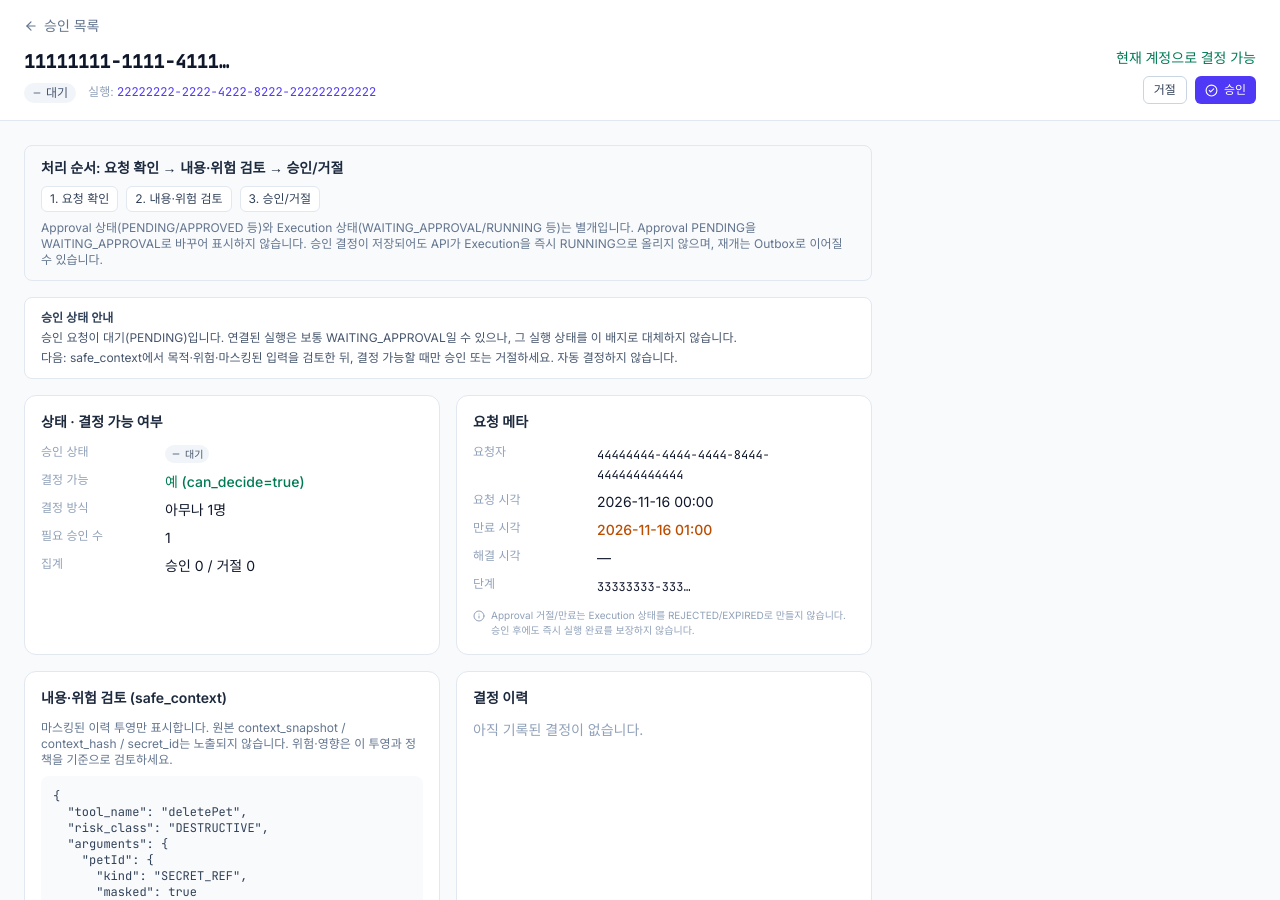
Test case: ApprovalDetail decide (phase 2) › rejects with comment and does not claim success on 409 conflict
The width and height of the screenshot is (1280, 900).
Expected: the text "현재 계정으로 결정 가능" is shown, x1=1116 y1=48 x2=1256 y2=68
Click the button "거절" at (1165, 90), box x1=1143 y1=76 x2=1187 y2=104
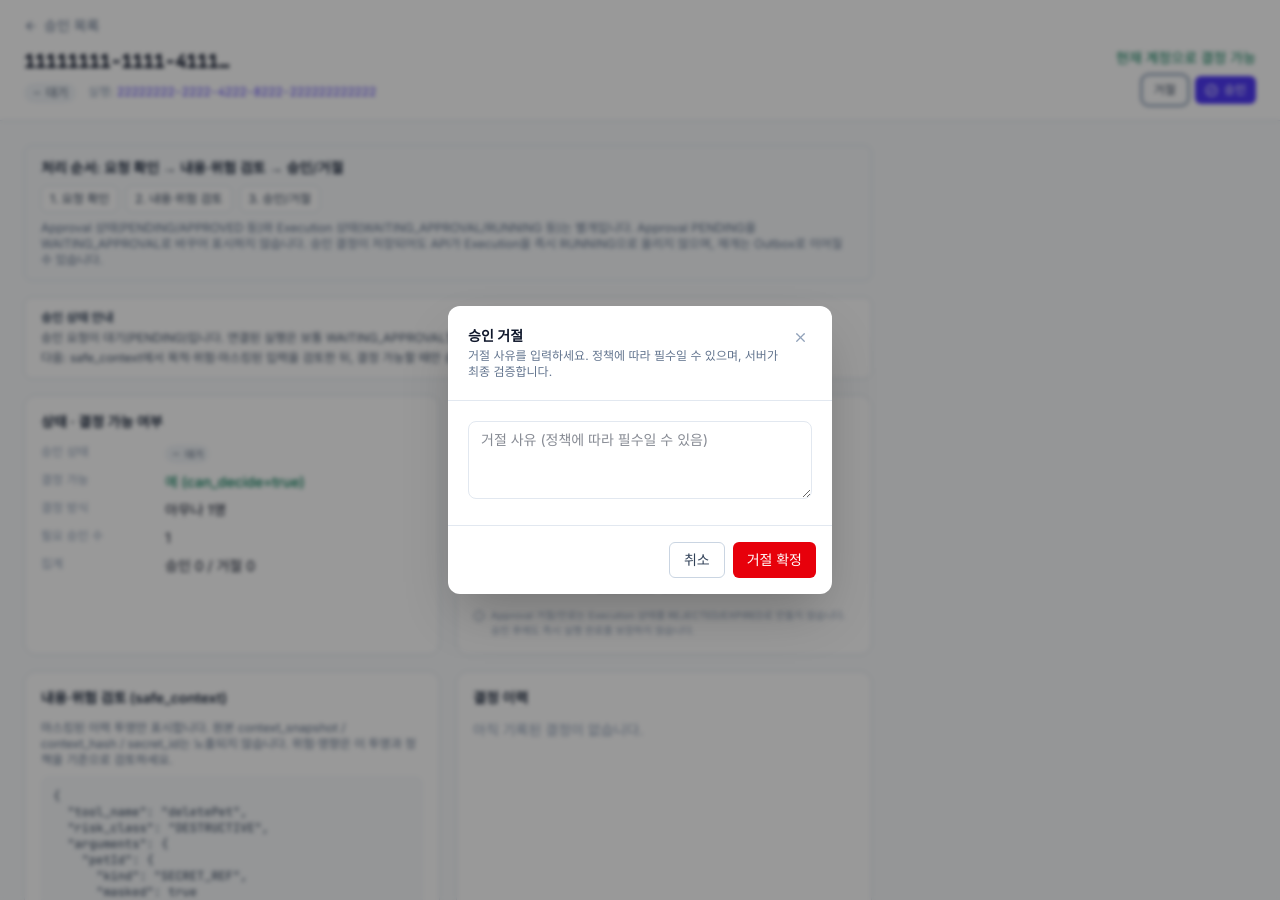
Type "정책상 거절" into the text box with placeholder "거절 사유 (정책에 따라 필수일 수 있음)" at (640, 460), box x1=468 y1=421 x2=812 y2=499
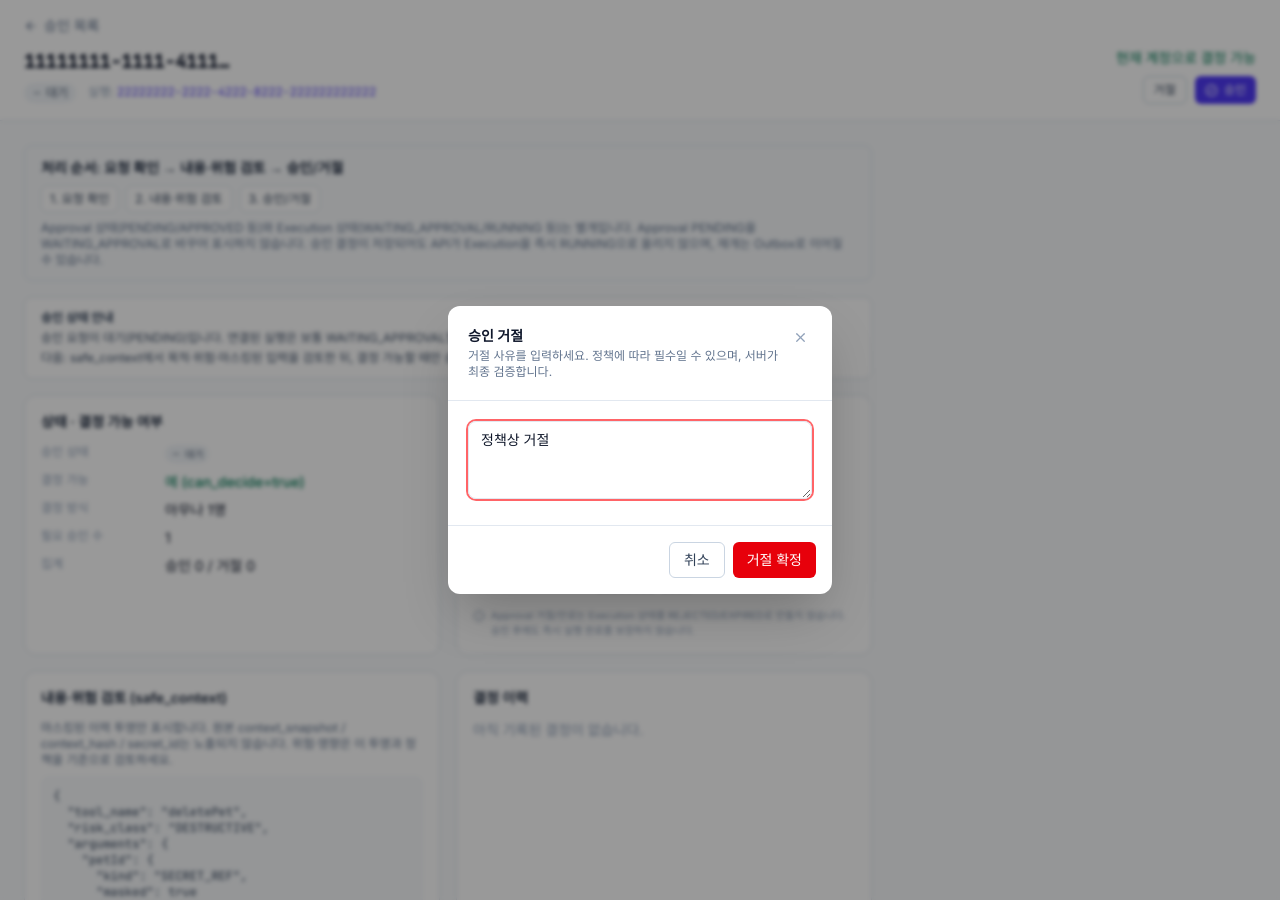
Click the button "거절 확정" at (774, 560), box x1=733 y1=542 x2=816 y2=578
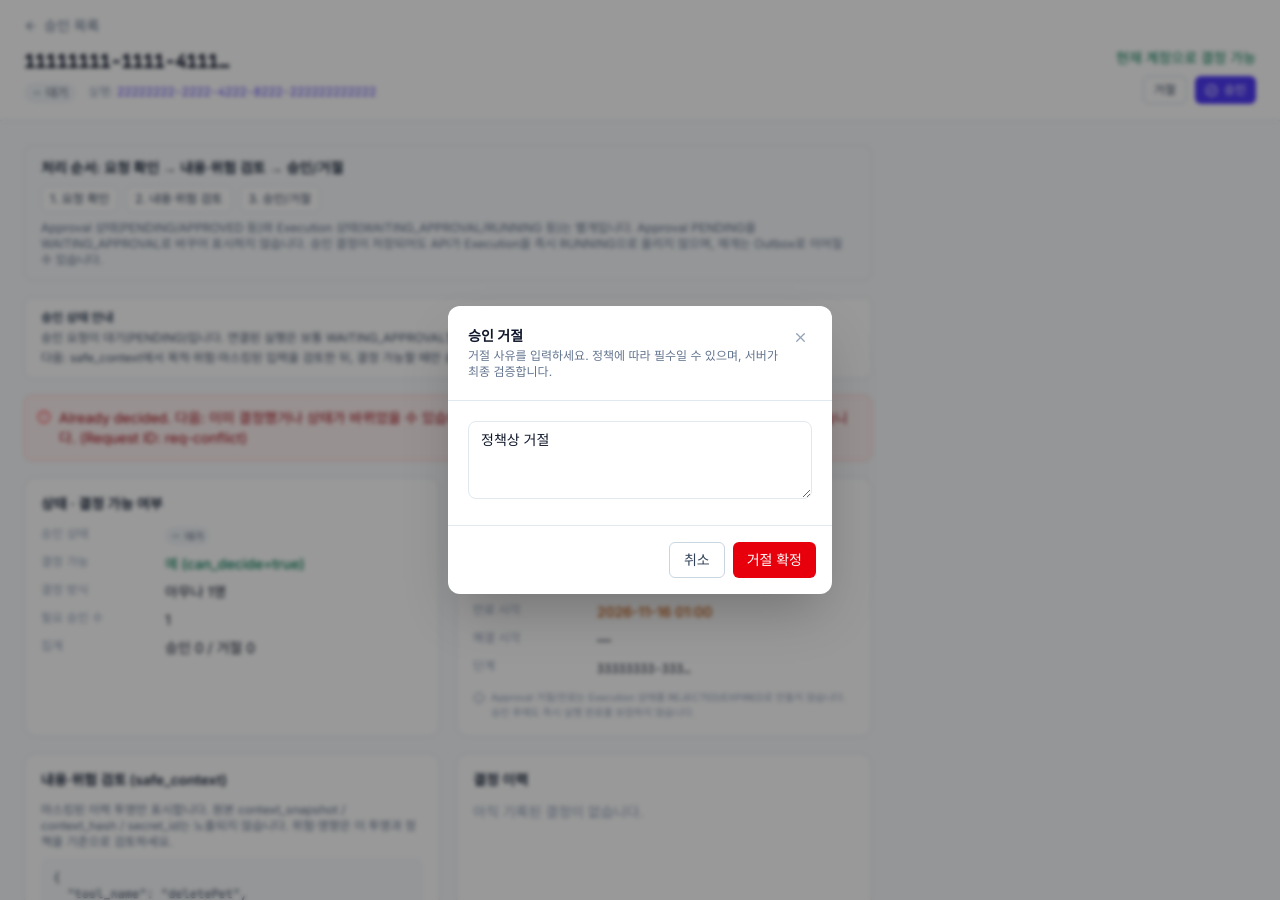
Expected: the text "Already decided" is shown, x1=59 y1=409 x2=848 y2=446
Expected: the text "Already decided" shows "Request ID: req-conflict", x1=59 y1=409 x2=848 y2=446
